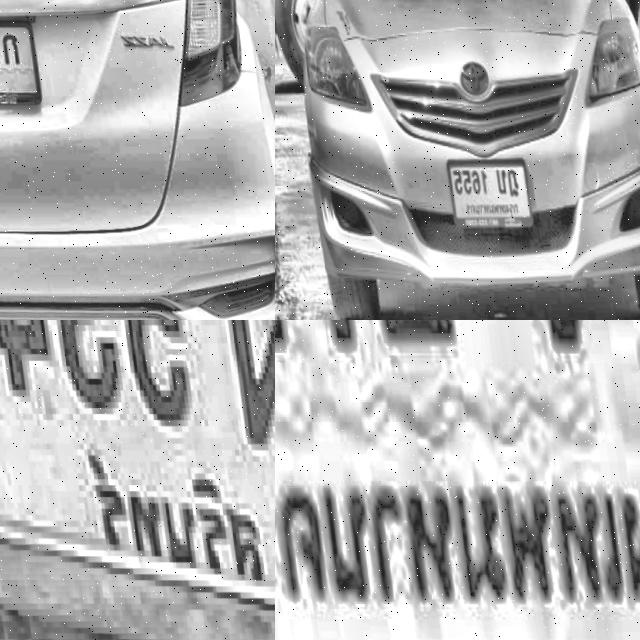license-plate: (275, 320, 640, 640), (0, 320, 275, 640), (433, 151, 527, 236), (0, 5, 36, 105)
